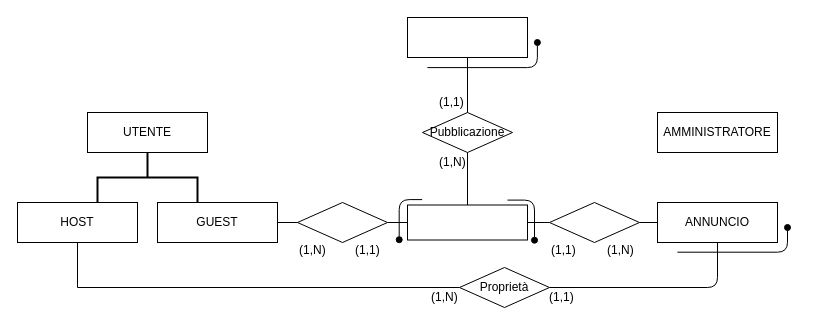
The diagram is 813 pixels wide and 325 high, and some of its shapes have lost their labels. Each missing label, with the centre of its shape:
COMMENTO: the point at 467,37
Effettuazione: the point at 342,222
PRENOTAZIONE: the point at 467,222
Presso: the point at 594,222
